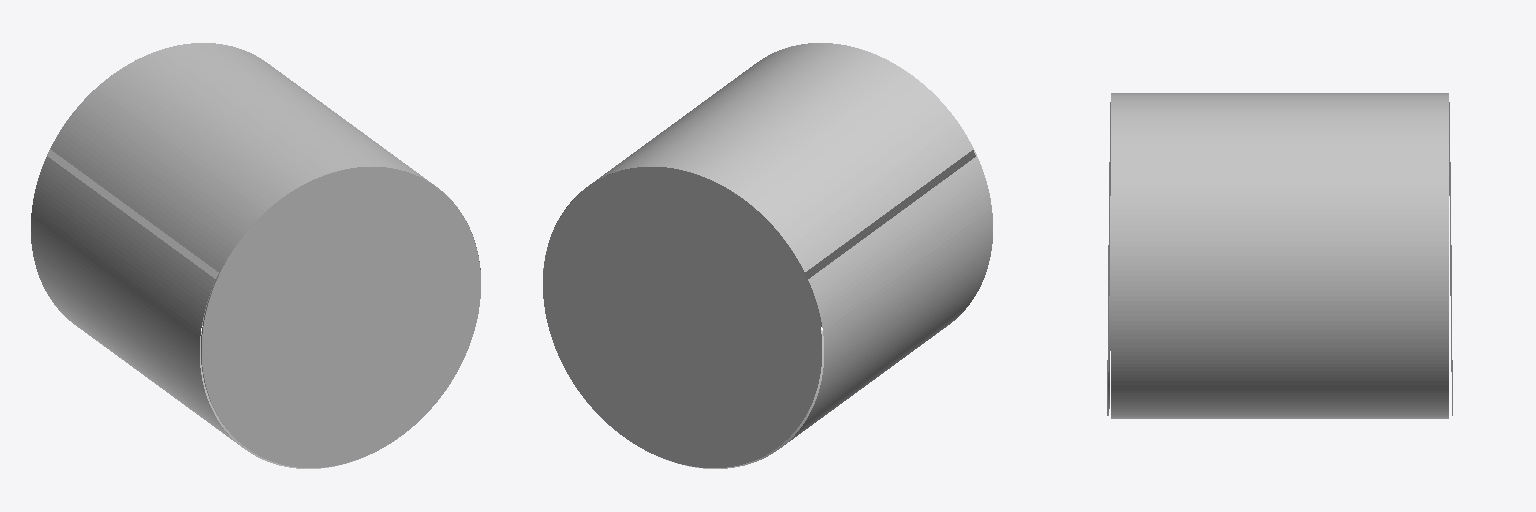
Rendered from plane bend95.obj.
3 renders of one model, left to right at view 1: azimuth 30°, elevation 25°; view 2: azimuth 150°, elevation 25°; view 3: azimuth 270°, elevation 25°, orthographic.
Visible parts, largest first — view 1: Plane, Circle, Circle.001; view 2: Plane, Circle.001, Circle; view 3: Plane, Circle.
Part boxes in pixels (bbox=[...]): Plane: bbox=[31, 43, 480, 468]; Circle: bbox=[201, 167, 480, 467]; Circle.001: bbox=[33, 60, 218, 325]; Plane: bbox=[543, 43, 992, 468]; Circle.001: bbox=[543, 167, 821, 467]; Circle: bbox=[725, 43, 990, 326]; Plane: bbox=[1111, 93, 1448, 418]; Circle: bbox=[1107, 100, 1112, 415].
Bounding box in the file's own units: 1.92 × 1.92 × 2.04.